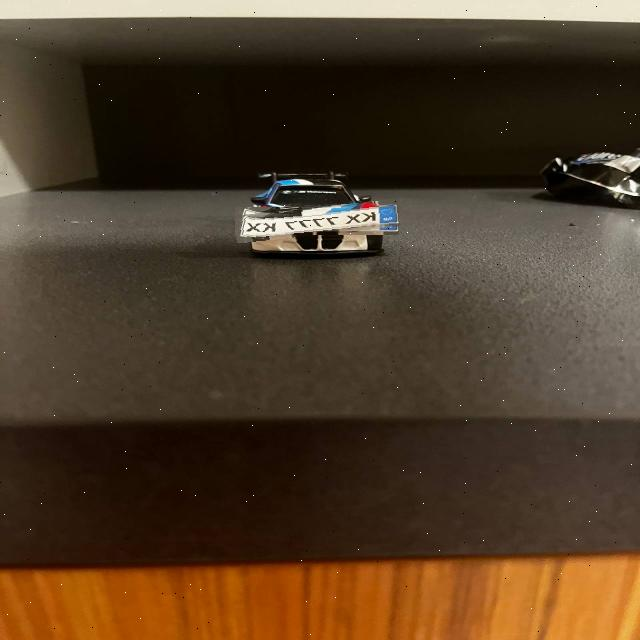KX 7777 KX: (236, 200, 399, 239)
